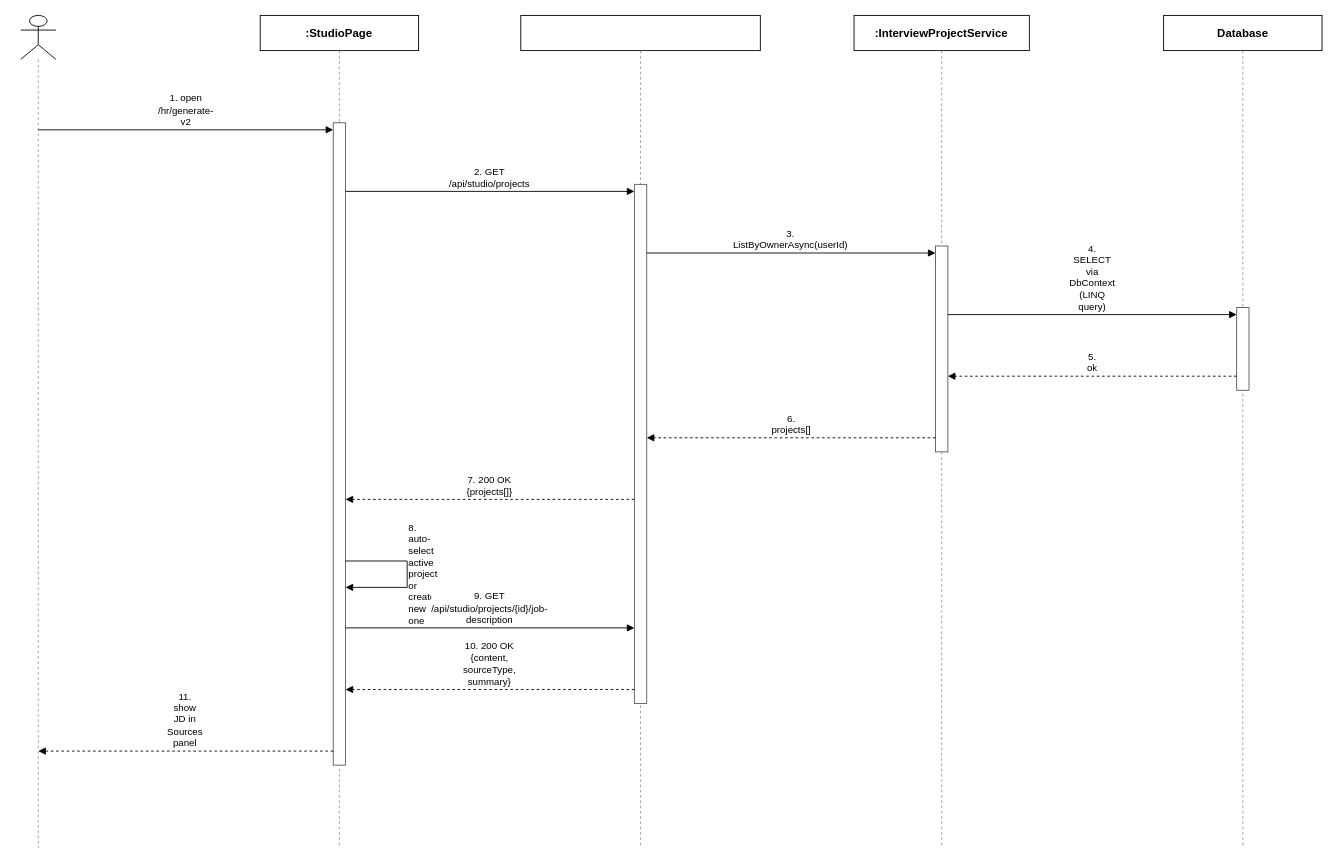
Image size: 1338x864. Some labels were removed from this diagram. Each missing label, with the box of its shape:
:StudioInterviewProjectsController: (520, 15, 760, 51)
HR Manager: (20, 15, 56, 59)
